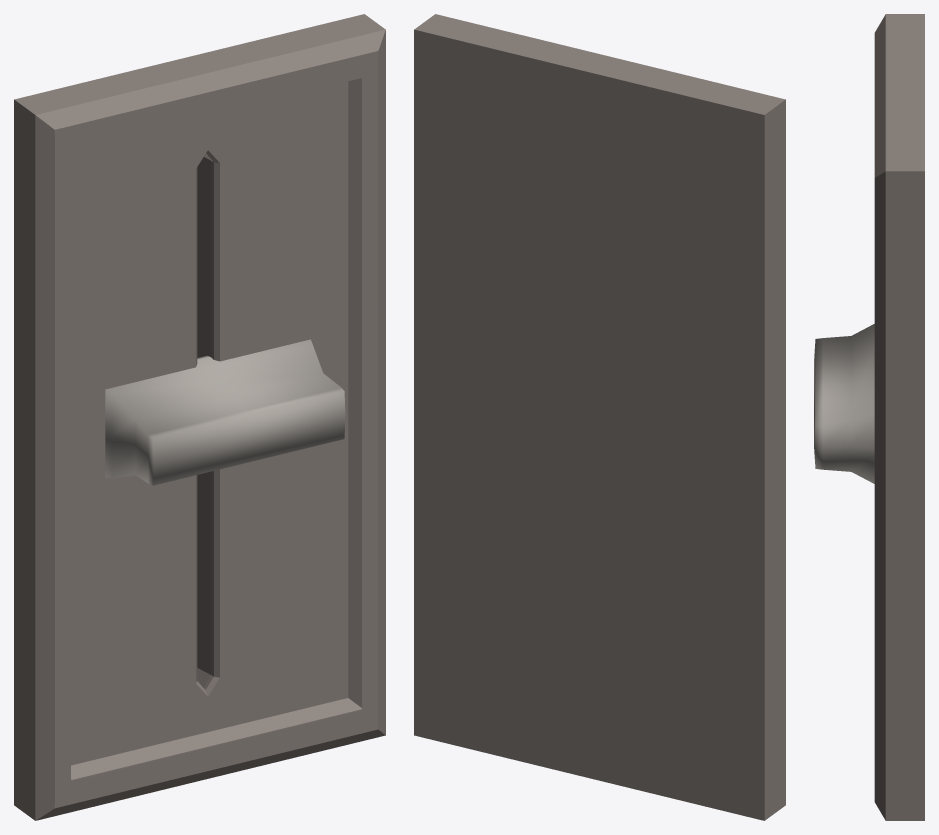
File: Dimmer_2.FBX
3 renders of one model, left to right at view 1: azimuth 30°, elevation 25°; view 2: azimuth 150°, elevation 25°; view 3: azimuth 270°, elevation 25°, orthographic. The views are drawn at different scales.
Parts seen in each view (by area): view 1: Dimmer_Board2, Dimmer_Handle2; view 2: Dimmer_Board2; view 3: Dimmer_Board2, Dimmer_Handle2.
Part boxes in pixels (box(x1,y1,x2,y2)): Dimmer_Board2: box(14, 14, 385, 820); Dimmer_Handle2: box(105, 339, 345, 485); Dimmer_Board2: box(414, 14, 785, 820); Dimmer_Board2: box(874, 14, 924, 820); Dimmer_Handle2: box(814, 324, 874, 483).
Size of the model in its own units: 9.32 by 17.95 by 2.78.
Materials: 1 (1 with a texture image).
